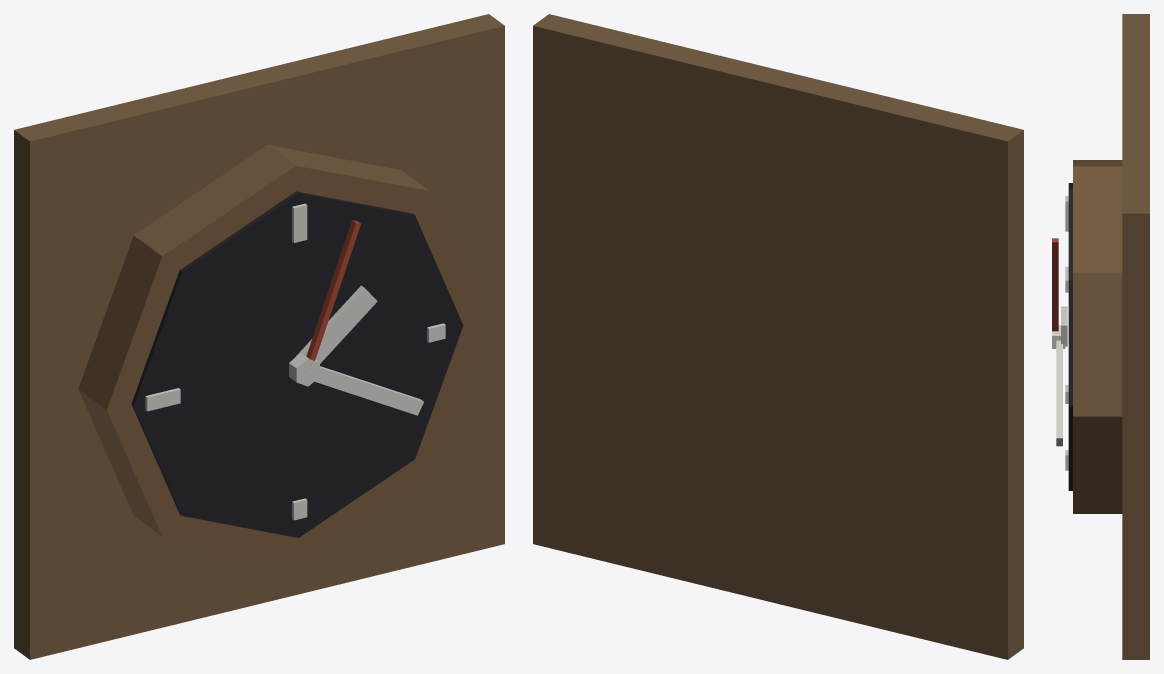
File: wall-clock-09.glb
3 renders of one model, left to right at view 1: azimuth 30°, elevation 25°; view 2: azimuth 150°, elevation 25°; view 3: azimuth 270°, elevation 25°, orthographic. The views are drawn at different scales.
Visible parts, largest first — view 1: wall_clock_09; view 2: wall_clock_09; view 3: wall_clock_09.
Part boxes in pixels (x1,y1,x2,y2): wall_clock_09: (14,14,504,659); wall_clock_09: (533,14,1023,659); wall_clock_09: (1052,14,1149,659).
Bounding box in the file's own units: 0.4267 × 0.445 × 0.0885.
